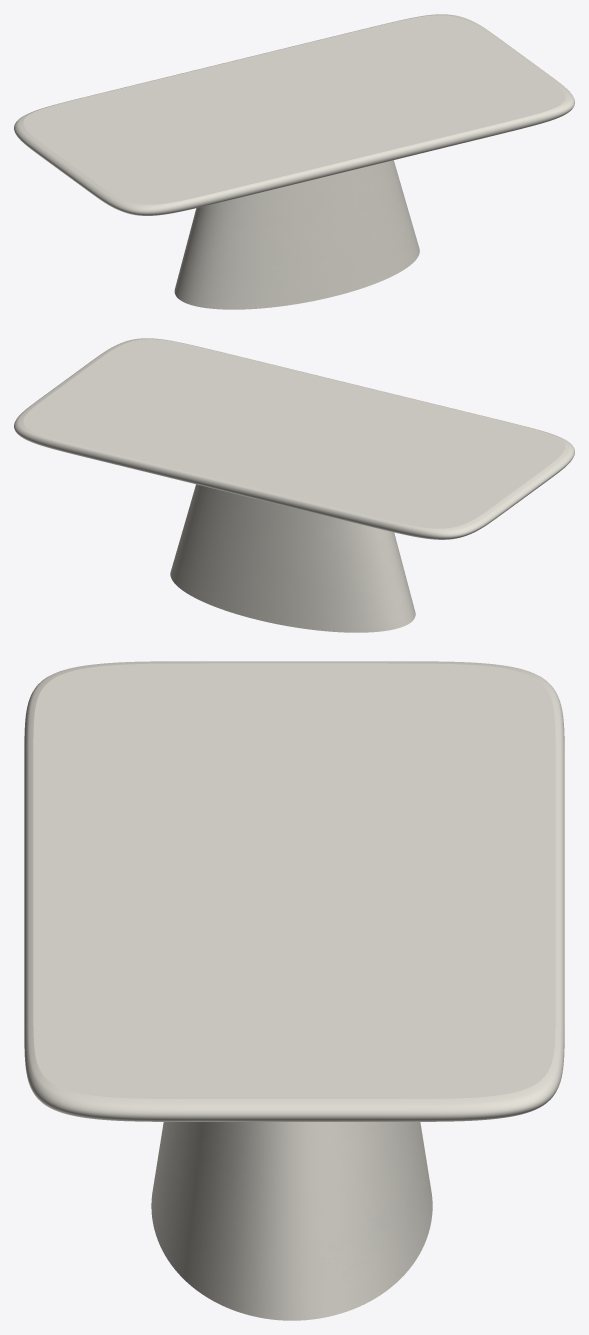
File: pale_softrecta_round_eqone.glb
3 views of the same model, one above another, from view 1: azimuth 30°, elevation 25°; view 2: azimuth 150°, elevation 25°; view 3: azimuth 270°, elevation 25° (orthographic). The views are drawn at different scales.
Parts seen in each view (by area): view 1: round_softrecta, eqone; view 2: round_softrecta, eqone; view 3: round_softrecta, eqone.
Part boxes in pixels (bbox=[...]): round_softrecta: bbox=[14, 14, 574, 215]; eqone: bbox=[174, 160, 419, 309]; round_softrecta: bbox=[14, 338, 574, 539]; eqone: bbox=[170, 484, 415, 632]; round_softrecta: bbox=[24, 661, 564, 1121]; eqone: bbox=[151, 1122, 432, 1320].
Bounding box in the file's own units: 7.5 × 2.5 × 3.8.
Materials: 1 (1 with a texture image).
